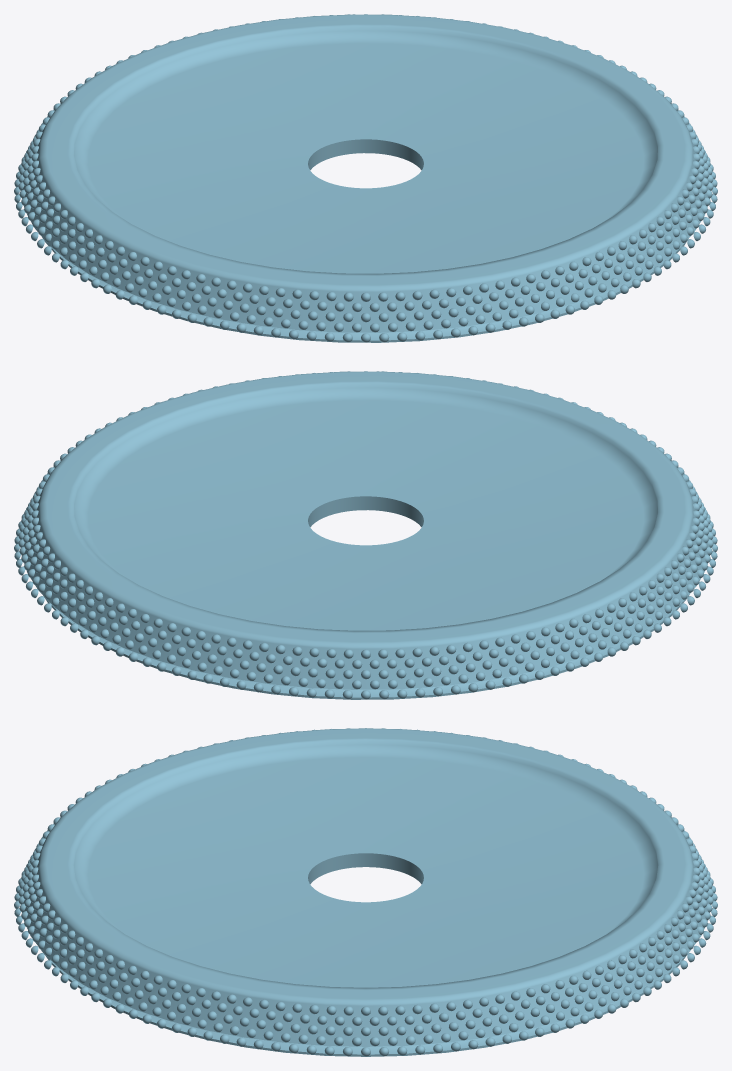
3 views of the same model, one above another, from view 1: azimuth 30°, elevation 25°; view 2: azimuth 150°, elevation 25°; view 3: azimuth 270°, elevation 25° (orthographic).
Visible parts, largest first — view 1: polySurface5; view 2: polySurface5; view 3: polySurface5.
Boxes of the visible parts, x1,y1,x2,y2 form: polySurface5: [14, 14, 717, 342]; polySurface5: [14, 371, 717, 699]; polySurface5: [14, 728, 717, 1056].
Size of the model in its own units: 9.14 by 0.7312 by 9.14.
